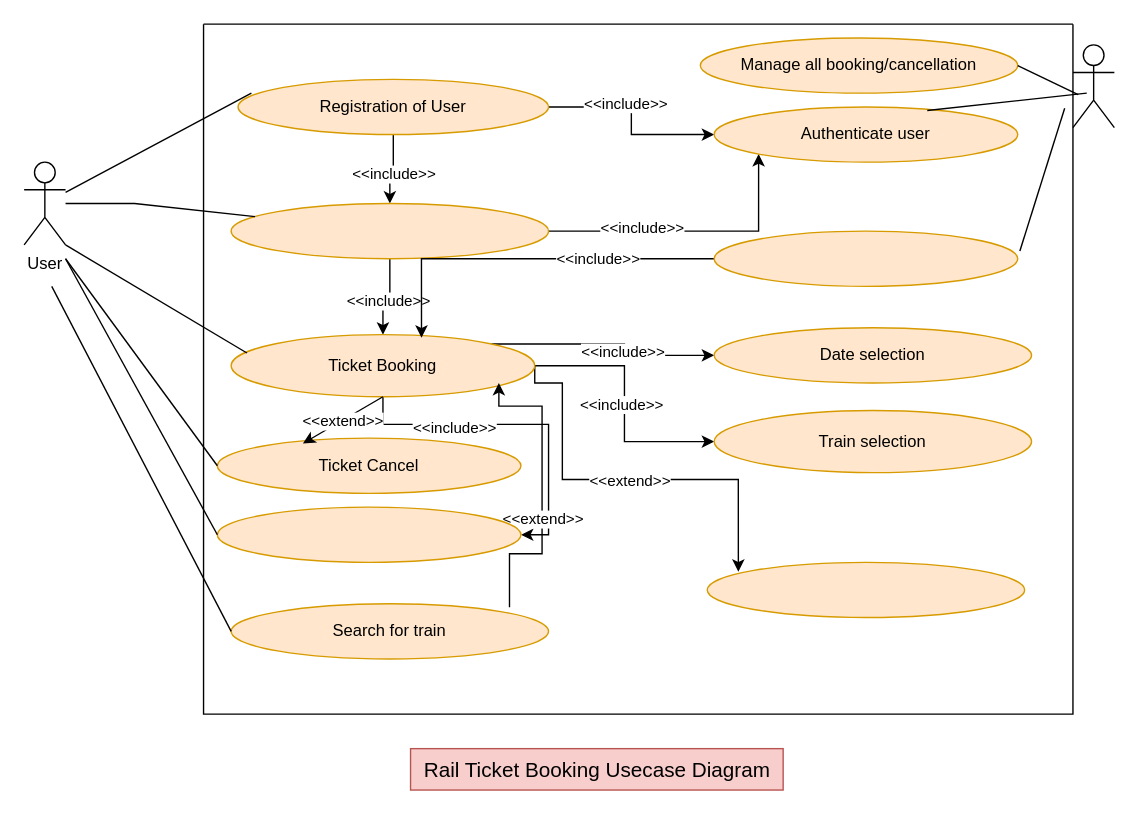
The diagram is 1141 pixels wide and 814 high, and some of its shapes have lost their labels. The centre of each missing label's shape, as x and y in pixels:
"Admin" goes at point 1093,85.
"Authenticate Booking" goes at point 865,258.
"Login" goes at point 389,230.
"Make Payment" goes at point 368,534.
"Select Berth Preference" goes at point 865,589.
